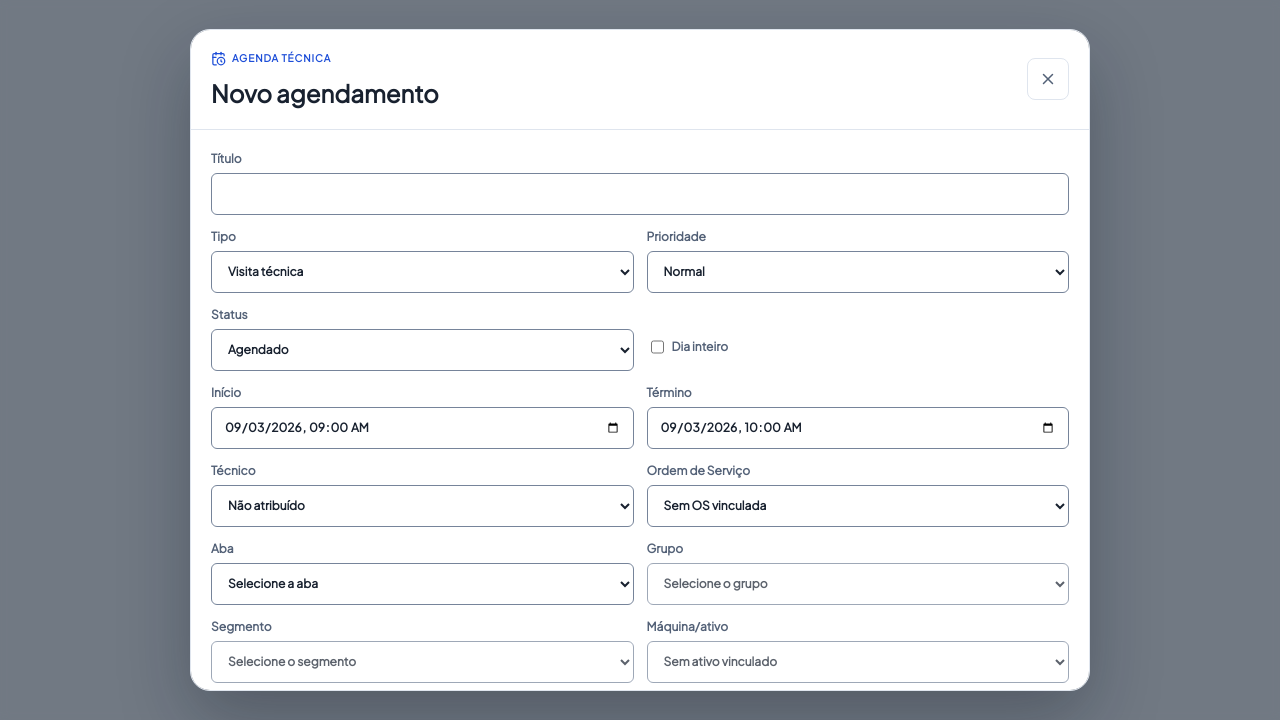
Scenario: CalendarEventModal (fluxos) › escolher uma OS preenche ativo, segmento, grupo e aba
The image size is (1280, 720).
Select "OS-1 · Rede" in the dropdown labelled "Ordem de Serviço" at x=858, y=506, box x1=646 y1=485 x2=1069 y2=527
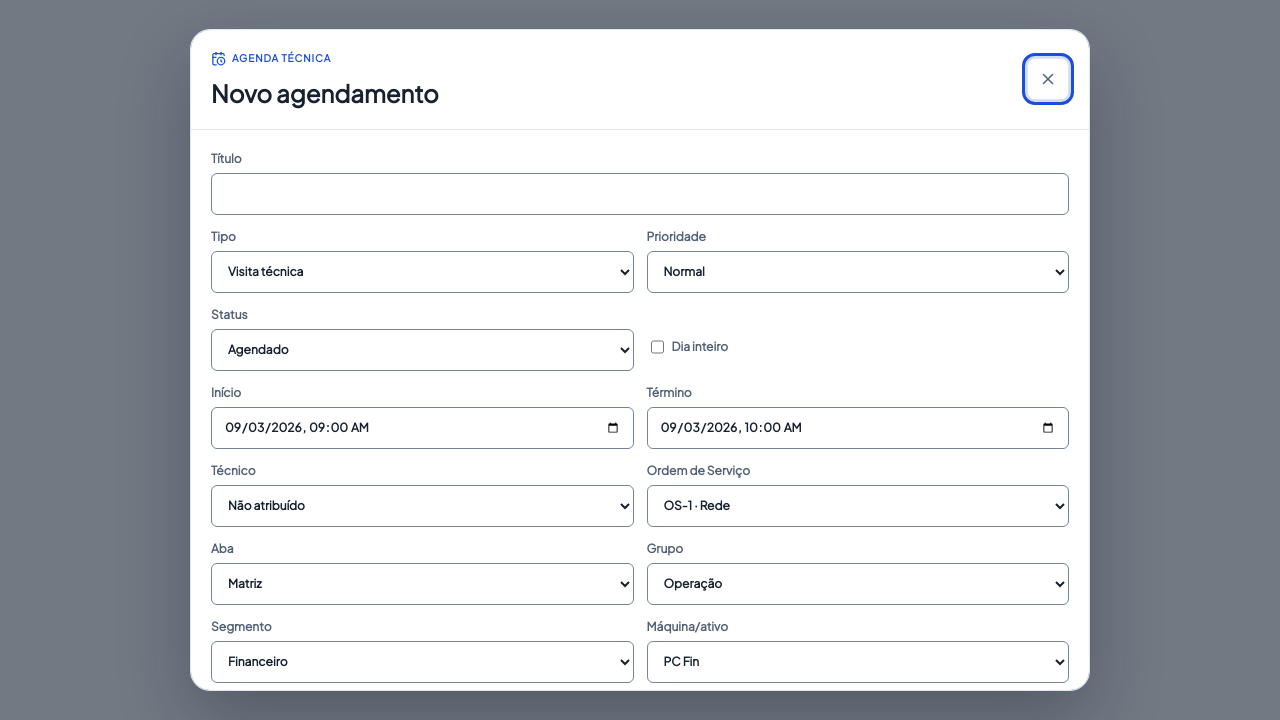
Now the dropdown labelled "Aba" shows "Matriz", box x1=211 y1=563 x2=634 y2=605
Now the dropdown labelled "Grupo" shows "Operação", box x1=646 y1=563 x2=1069 y2=605
Now the dropdown labelled "Segmento" shows "Financeiro", box x1=211 y1=641 x2=634 y2=683
